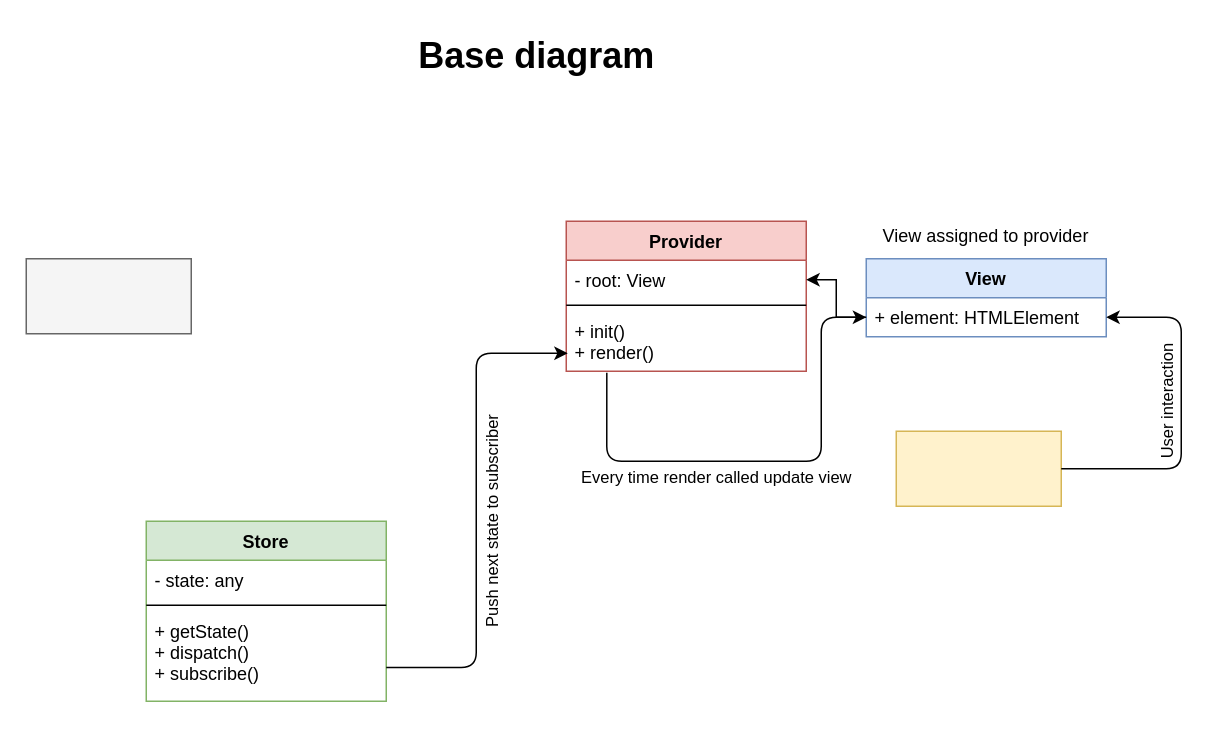
Some shapes in this 1220 by 731 pixel diagram are drawn without their labels. Each missing label, with the centre of its shape:
DOM: the point at 978,468
Reducer: the point at 108,295
